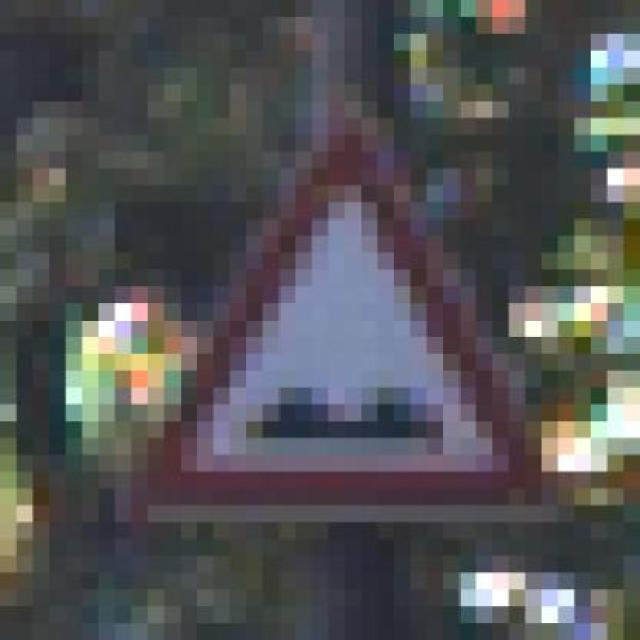Uneven Road: (115, 101, 558, 539)
